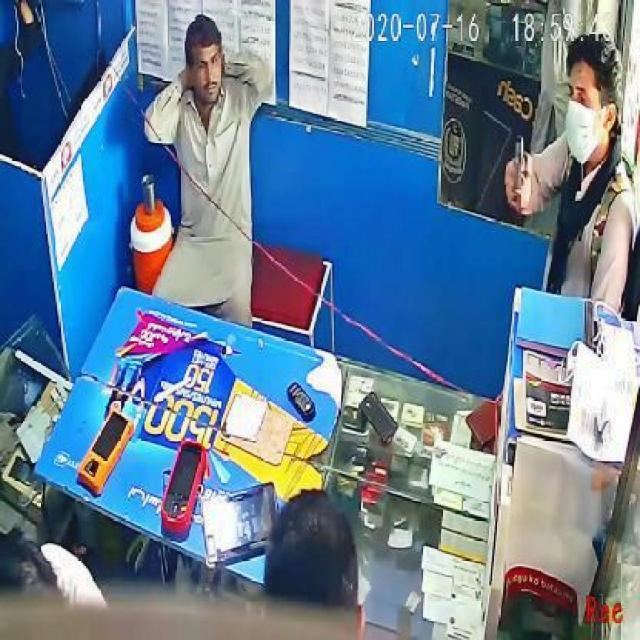Gun: (494, 122, 544, 200)
